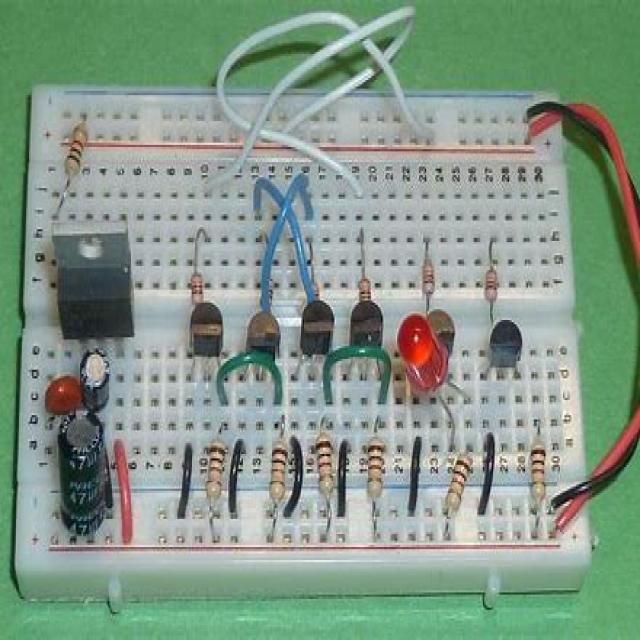Capacitor Electrolitico: (442, 449, 475, 516), (62, 118, 90, 176), (205, 438, 228, 503), (365, 435, 386, 502), (316, 431, 336, 497), (530, 439, 548, 509), (269, 436, 288, 502), (358, 272, 376, 311), (191, 266, 206, 310), (484, 263, 499, 306), (422, 256, 434, 294)
